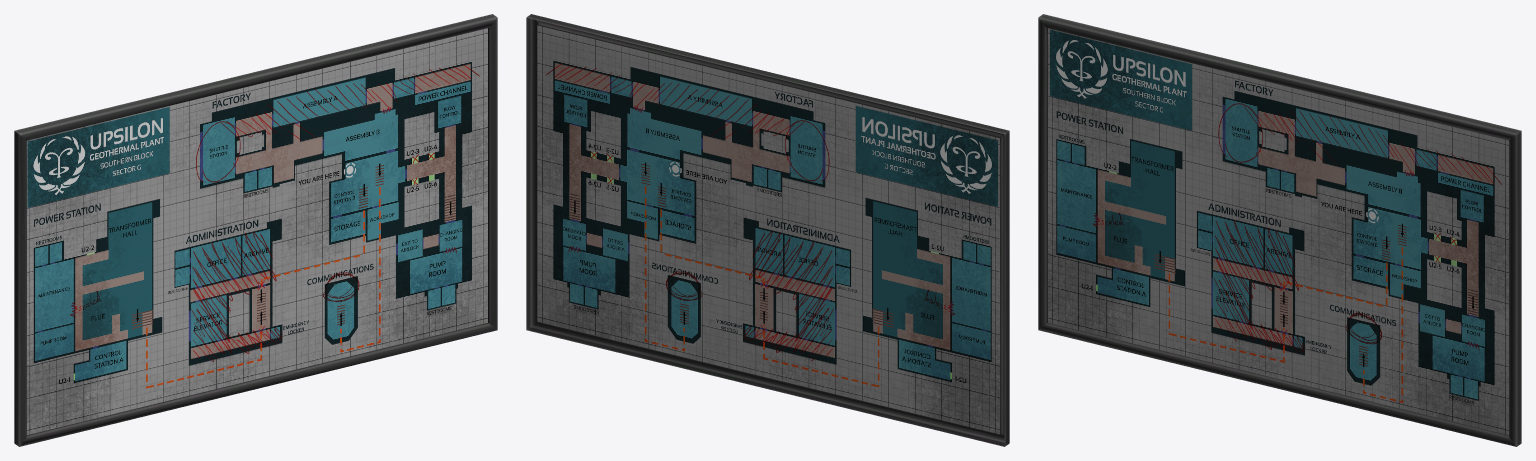
File: upsilon_information_04.dae
3 renders of one model, left to right at view 1: azimuth 30°, elevation 25°; view 2: azimuth 150°, elevation 25°; view 3: azimuth 330°, elevation 25°, orthographic.
Visible parts, largest first — view 1: map, frame__4_; view 2: map, frame__4_; view 3: map, frame__4_.
Boxes of the visible parts, x1=… form: map: x1=27, y1=28, x2=487, y2=434; frame__4_: x1=14, y1=14, x2=497, y2=446; map: x1=537, y1=25, x2=999, y2=434; frame__4_: x1=526, y1=14, x2=1009, y2=446; map: x1=1048, y1=28, x2=1508, y2=434; frame__4_: x1=1038, y1=14, x2=1521, y2=446.
Bounding box in the file's own units: 1.53 × 0.9524 × 0.027.
